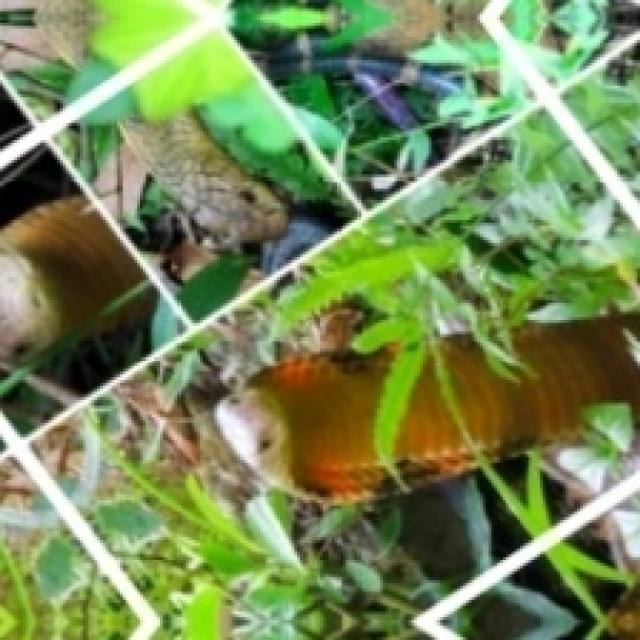king cobra: (214, 317, 637, 500)
